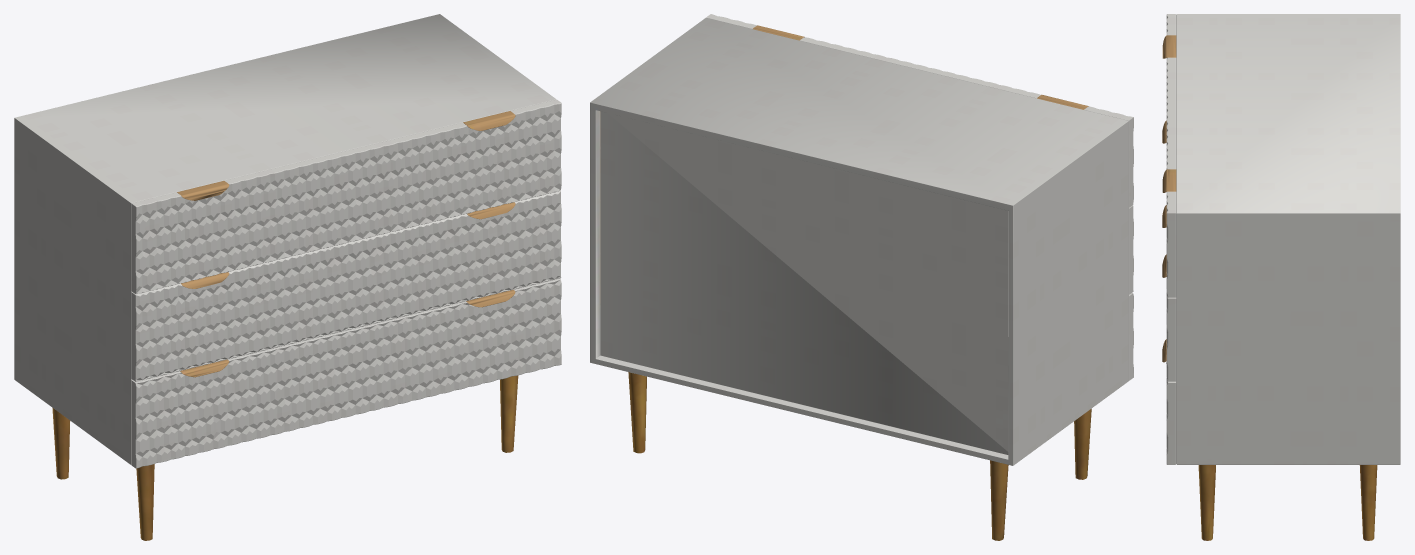
File: B07HSL4TS1.glb
The picture shows the model from 3 angles, left to right: view 1: azimuth 30°, elevation 25°; view 2: azimuth 150°, elevation 25°; view 3: azimuth 270°, elevation 25°; orthographic projection. The views are drawn at different scales.
Parts seen in each view (by area): view 1: RootNode; view 2: RootNode; view 3: RootNode.
Part boxes in pixels (<box>): RootNode: <box>14,14,561,540</box>; RootNode: <box>590,14,1133,540</box>; RootNode: <box>1162,14,1400,540</box>.
Size of the model in its own units: 0.9048 by 0.7214 by 0.4567.
1 material, 1 textured.
